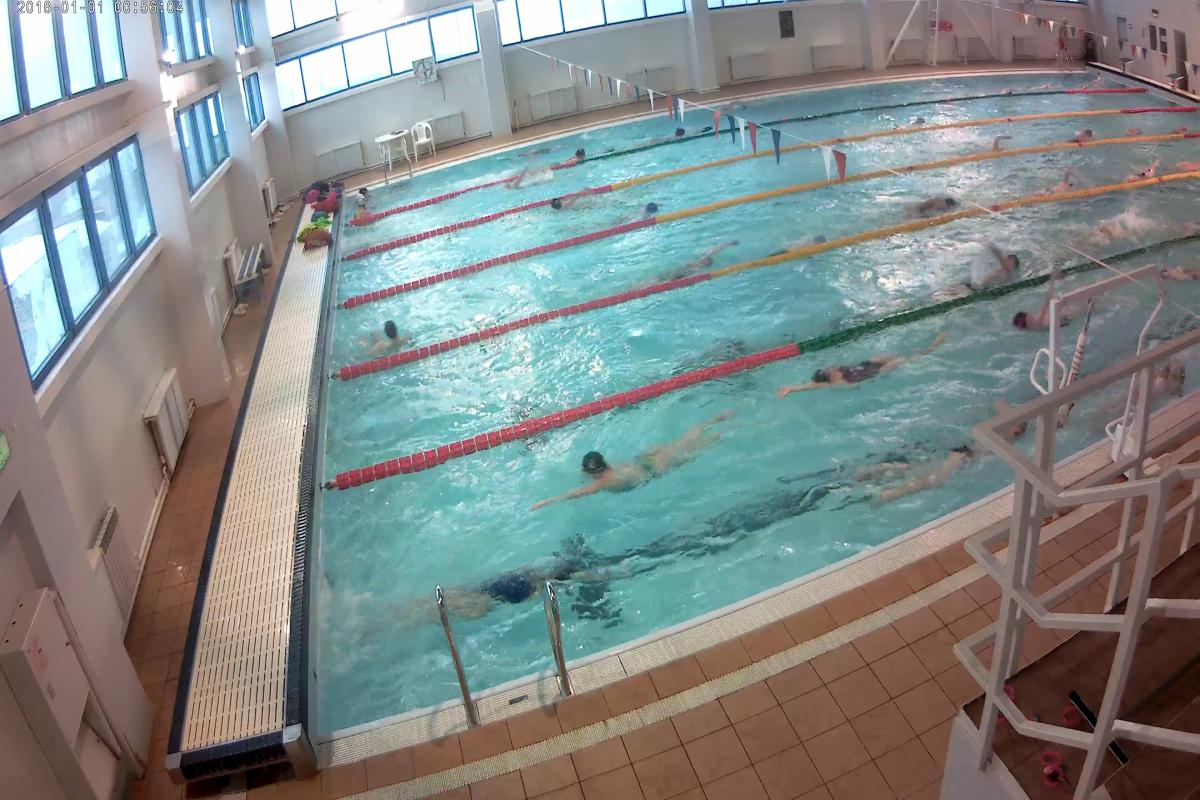swimmer: (546, 408, 730, 511), (391, 551, 587, 629), (881, 399, 1016, 490), (780, 334, 954, 396), (649, 238, 738, 285), (948, 249, 1024, 297), (895, 184, 964, 220), (367, 314, 422, 356), (1125, 151, 1164, 181), (1008, 301, 1050, 327), (627, 196, 666, 224), (1045, 162, 1080, 191), (542, 193, 588, 212)
